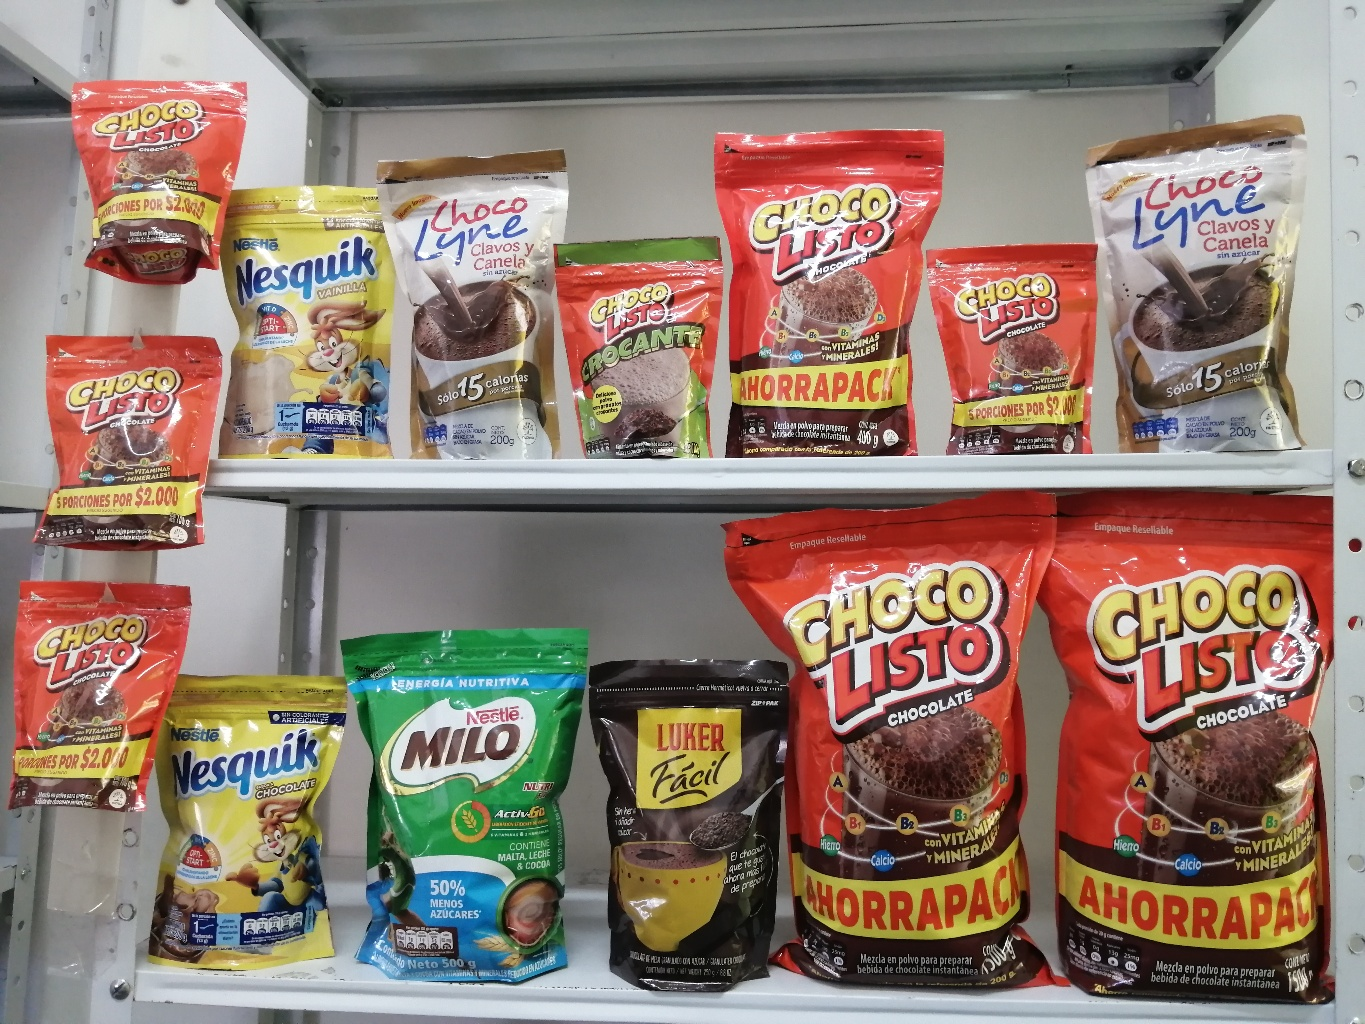COL0170102DYP10000: (550, 236, 724, 461)
COL0170103DYP1,500: (1042, 495, 1339, 1013)
COL0170103DYP10000: (69, 72, 255, 286)
COL0170103DYP40000: (714, 126, 939, 458)
COL0170205DYP50000: (336, 618, 575, 987)
COL0170303DYP20000: (150, 669, 336, 965)
COL0170306DYP20000: (208, 177, 410, 461)
